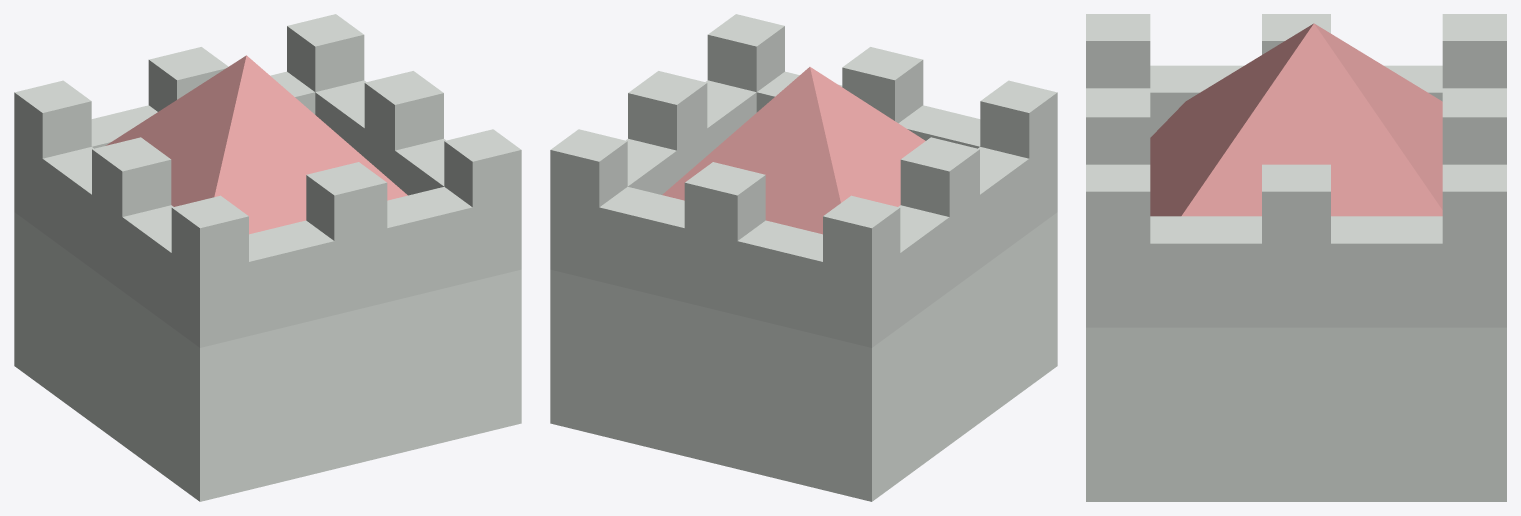
File: tower-defense-classic--tile-051.glb
3 renders of one model, left to right at view 1: azimuth 30°, elevation 25°; view 2: azimuth 150°, elevation 25°; view 3: azimuth 270°, elevation 25°, orthographic. The views are drawn at different scales.
Parts seen in each view (by area): view 1: tile_051, Group; view 2: tile_051, Group; view 3: tile_051, Group.
Part boxes in pixels (bbox=[...]): tile_051: bbox=[14, 14, 521, 501]; Group: bbox=[105, 55, 407, 234]; tile_051: bbox=[550, 14, 1057, 501]; Group: bbox=[662, 67, 925, 234]; tile_051: bbox=[1086, 14, 1506, 501]; Group: bbox=[1150, 23, 1442, 216].
Bounding box in the file's own units: 0.5901 × 0.5914 × 0.5901.
